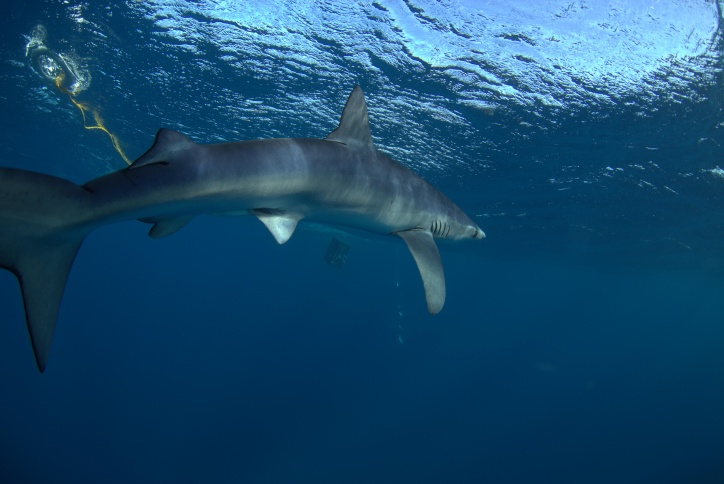Azul: (1, 65, 568, 399)
